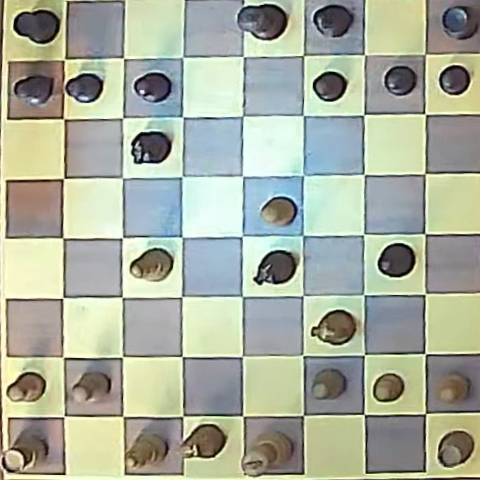black-bishop: (312, 4, 352, 38), (377, 243, 415, 278)
black-king: (237, 4, 286, 40)
black-knight: (254, 250, 296, 285), (131, 131, 170, 164)
black-pawn: (14, 75, 54, 106), (133, 72, 171, 103), (65, 73, 104, 103), (383, 65, 417, 95), (312, 71, 346, 101), (438, 65, 471, 95)
black-rook: (13, 9, 60, 45), (441, 5, 477, 39)
white-bishop: (125, 433, 167, 470), (130, 248, 172, 282)
white-king: (242, 430, 294, 477)
white-knight: (178, 424, 226, 459), (312, 310, 356, 345)
white-pawn: (6, 372, 46, 403), (71, 372, 110, 403), (260, 197, 296, 226), (311, 369, 345, 399), (436, 373, 468, 403), (373, 374, 405, 402)
white-rook: (2, 433, 46, 473), (437, 431, 473, 467)
